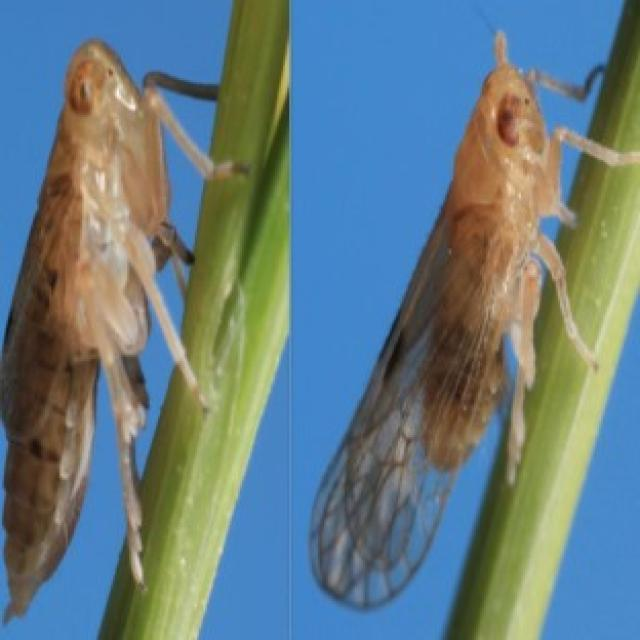brown plant hopper: (312, 35, 593, 607), (0, 39, 205, 617)
